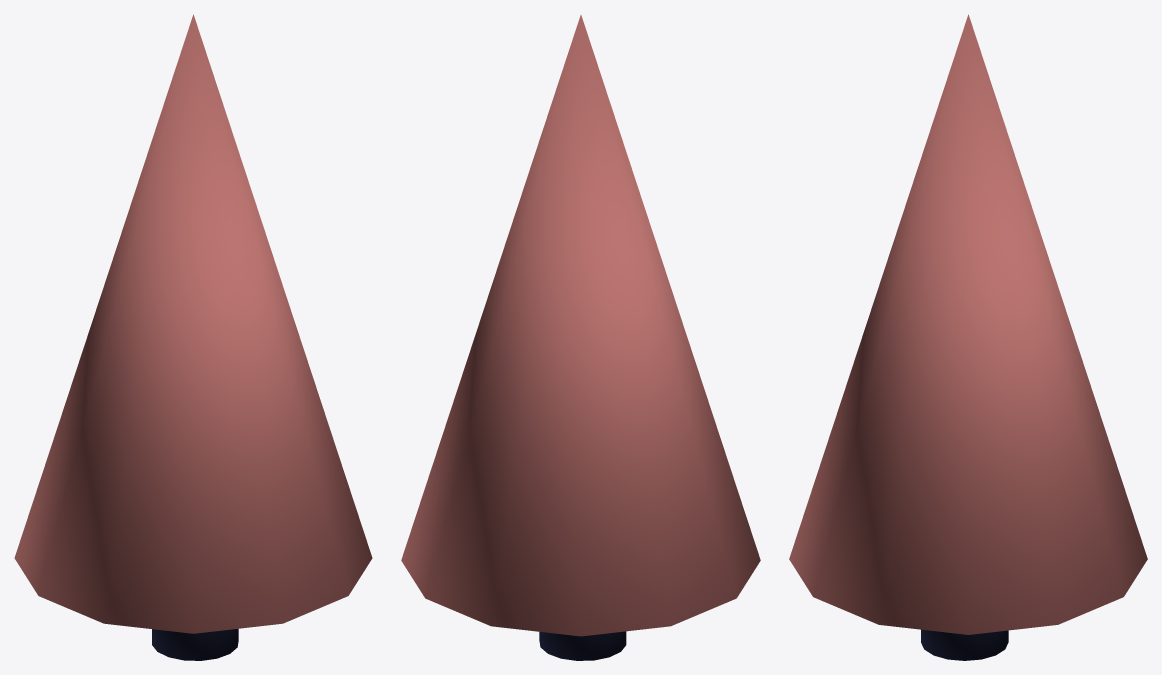
Rendered from sapin-automne.gltf.
3 renders of one model, left to right at view 1: azimuth 30°, elevation 25°; view 2: azimuth 150°, elevation 25°; view 3: azimuth 270°, elevation 25°, orthographic.
Parts seen in each view (by area): view 1: Cone, Cylinder; view 2: Cone, Cylinder; view 3: Cone, Cylinder.
Boxes of the visible parts, x1,y1,x2,y2 form: Cone: [14, 14, 372, 633]; Cylinder: [152, 628, 238, 660]; Cone: [401, 15, 760, 636]; Cylinder: [539, 631, 626, 660]; Cone: [789, 14, 1147, 634]; Cylinder: [921, 629, 1008, 660].
Size of the model in its own units: 1.29 by 2.5 by 1.29.
